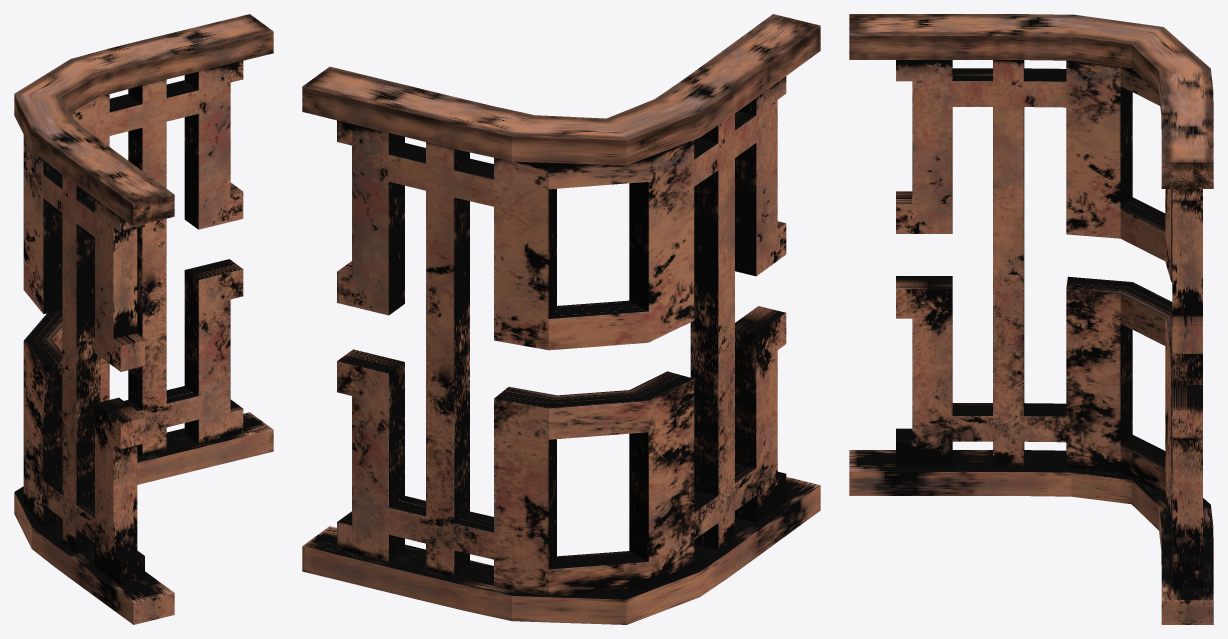
Rendered from Pared_02.fbx.
3 views of the same model, side by side, from view 1: azimuth 30°, elevation 25°; view 2: azimuth 150°, elevation 25°; view 3: azimuth 270°, elevation 25° (orthographic). The views are drawn at different scales.
Visible parts, largest first — view 1: Cube.020; view 2: Cube.020; view 3: Cube.020.
Part boxes in pixels (left/top/right/bottom): Cube.020: left=14, top=14, right=273, bottom=624; Cube.020: left=302, top=14, right=820, bottom=624; Cube.020: left=849, top=14, right=1213, bottom=624.
Bounding box in the file's own units: 414 × 587 × 422.
